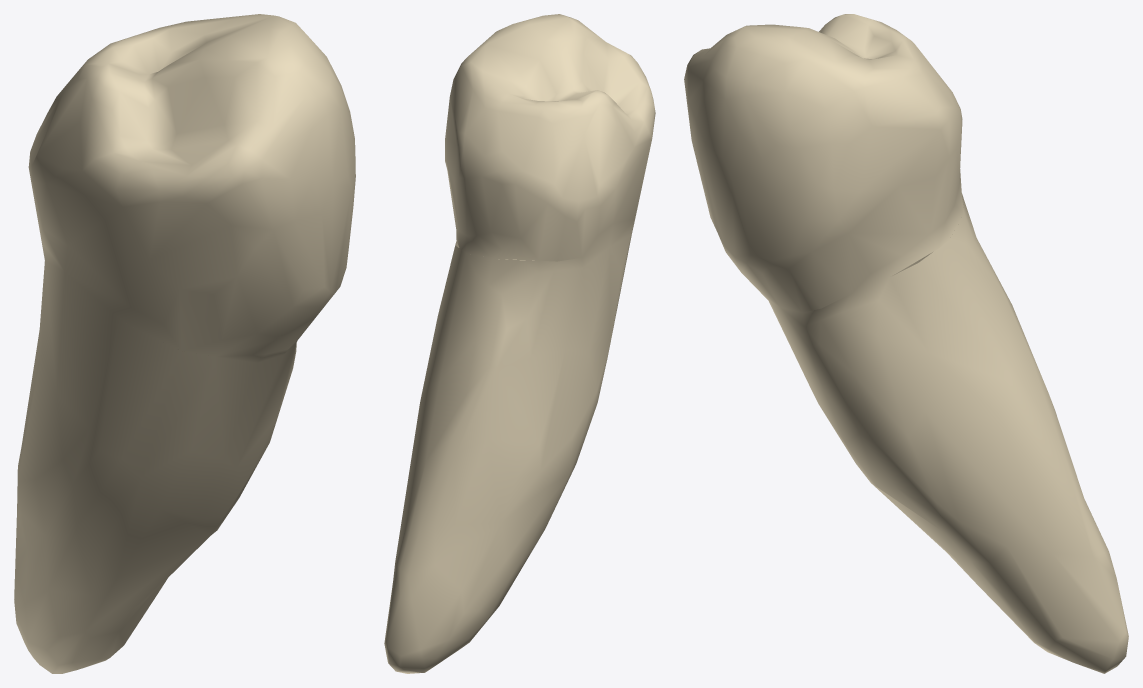
Rendered from esqueleto-lower-first-premolar-l.glb.
3 views of the same model, side by side, from view 1: azimuth 30°, elevation 25°; view 2: azimuth 150°, elevation 25°; view 3: azimuth 270°, elevation 25° (orthographic). The views are drawn at different scales.
Visible parts, largest first — view 1: Lower first premolar.l; view 2: Lower first premolar.l; view 3: Lower first premolar.l.
Part boxes in pixels (x1,y1,x2,y2): Lower first premolar.l: (14, 14, 355, 673); Lower first premolar.l: (384, 14, 655, 673); Lower first premolar.l: (684, 14, 1128, 673).
Bounding box in the file's own units: 0.00777 × 0.022 × 0.0138.
